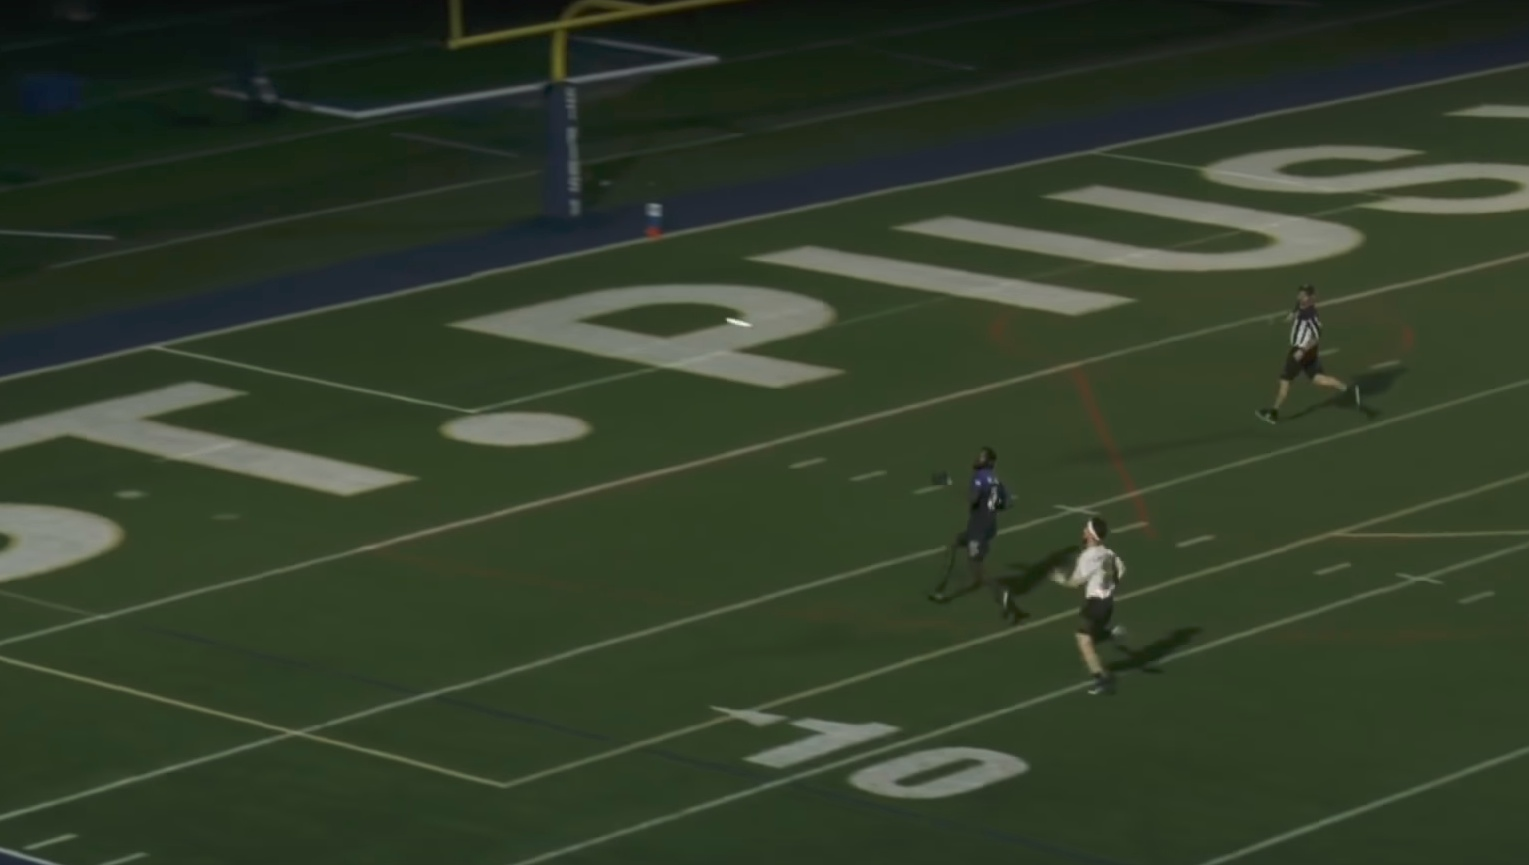frisbee: (726, 316, 751, 328)
